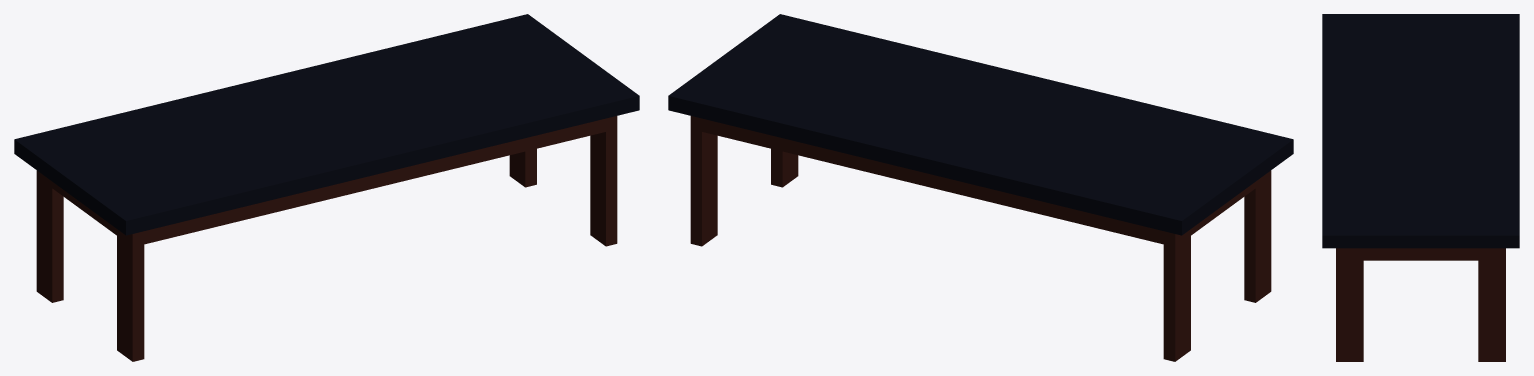
File: table.fbx
The picture shows the model from 3 angles, left to right: view 1: azimuth 30°, elevation 25°; view 2: azimuth 150°, elevation 25°; view 3: azimuth 270°, elevation 25°; orthographic projection. The views are drawn at different scales.
Parts seen in each view (by area): view 1: Cube; view 2: Cube; view 3: Cube.
Part boxes in pixels (x1,y1,x2,y2): Cube: [14, 14, 639, 361]; Cube: [668, 14, 1293, 361]; Cube: [1322, 14, 1519, 361].
Bounding box in the file's own units: 692 × 193 × 261.
